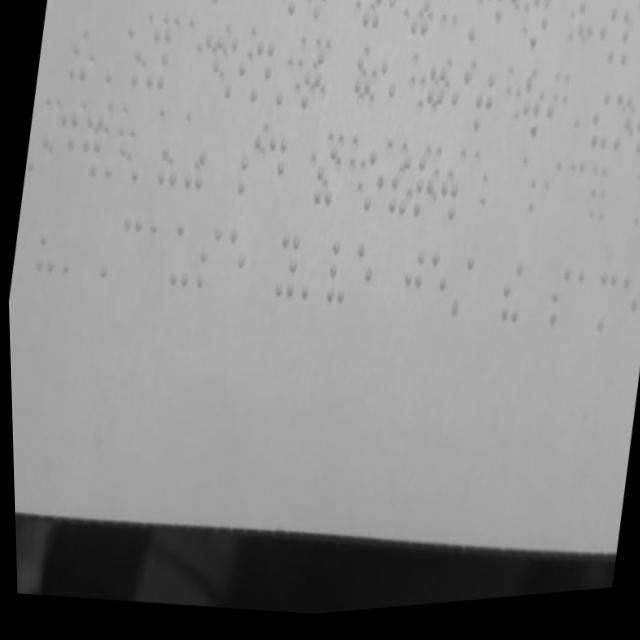braiile: (390, 242, 431, 332), (135, 208, 174, 300), (293, 41, 331, 135), (213, 218, 252, 309), (418, 245, 456, 338), (351, 141, 392, 226), (107, 208, 147, 295), (188, 219, 227, 307), (341, 238, 380, 326), (229, 126, 266, 217), (317, 232, 355, 318), (403, 151, 441, 237), (584, 267, 622, 353), (518, 0, 557, 83), (415, 65, 453, 150), (265, 228, 303, 313), (161, 215, 198, 302), (440, 66, 476, 154), (463, 71, 500, 156), (366, 59, 403, 142), (341, 54, 377, 139), (139, 19, 176, 100), (255, 131, 291, 213), (602, 93, 638, 172), (217, 31, 252, 111), (48, 105, 82, 185), (542, 263, 575, 343), (244, 36, 277, 115), (473, 0, 509, 72), (608, 272, 640, 352), (609, 7, 640, 89), (563, 269, 596, 344), (352, 0, 390, 49)
